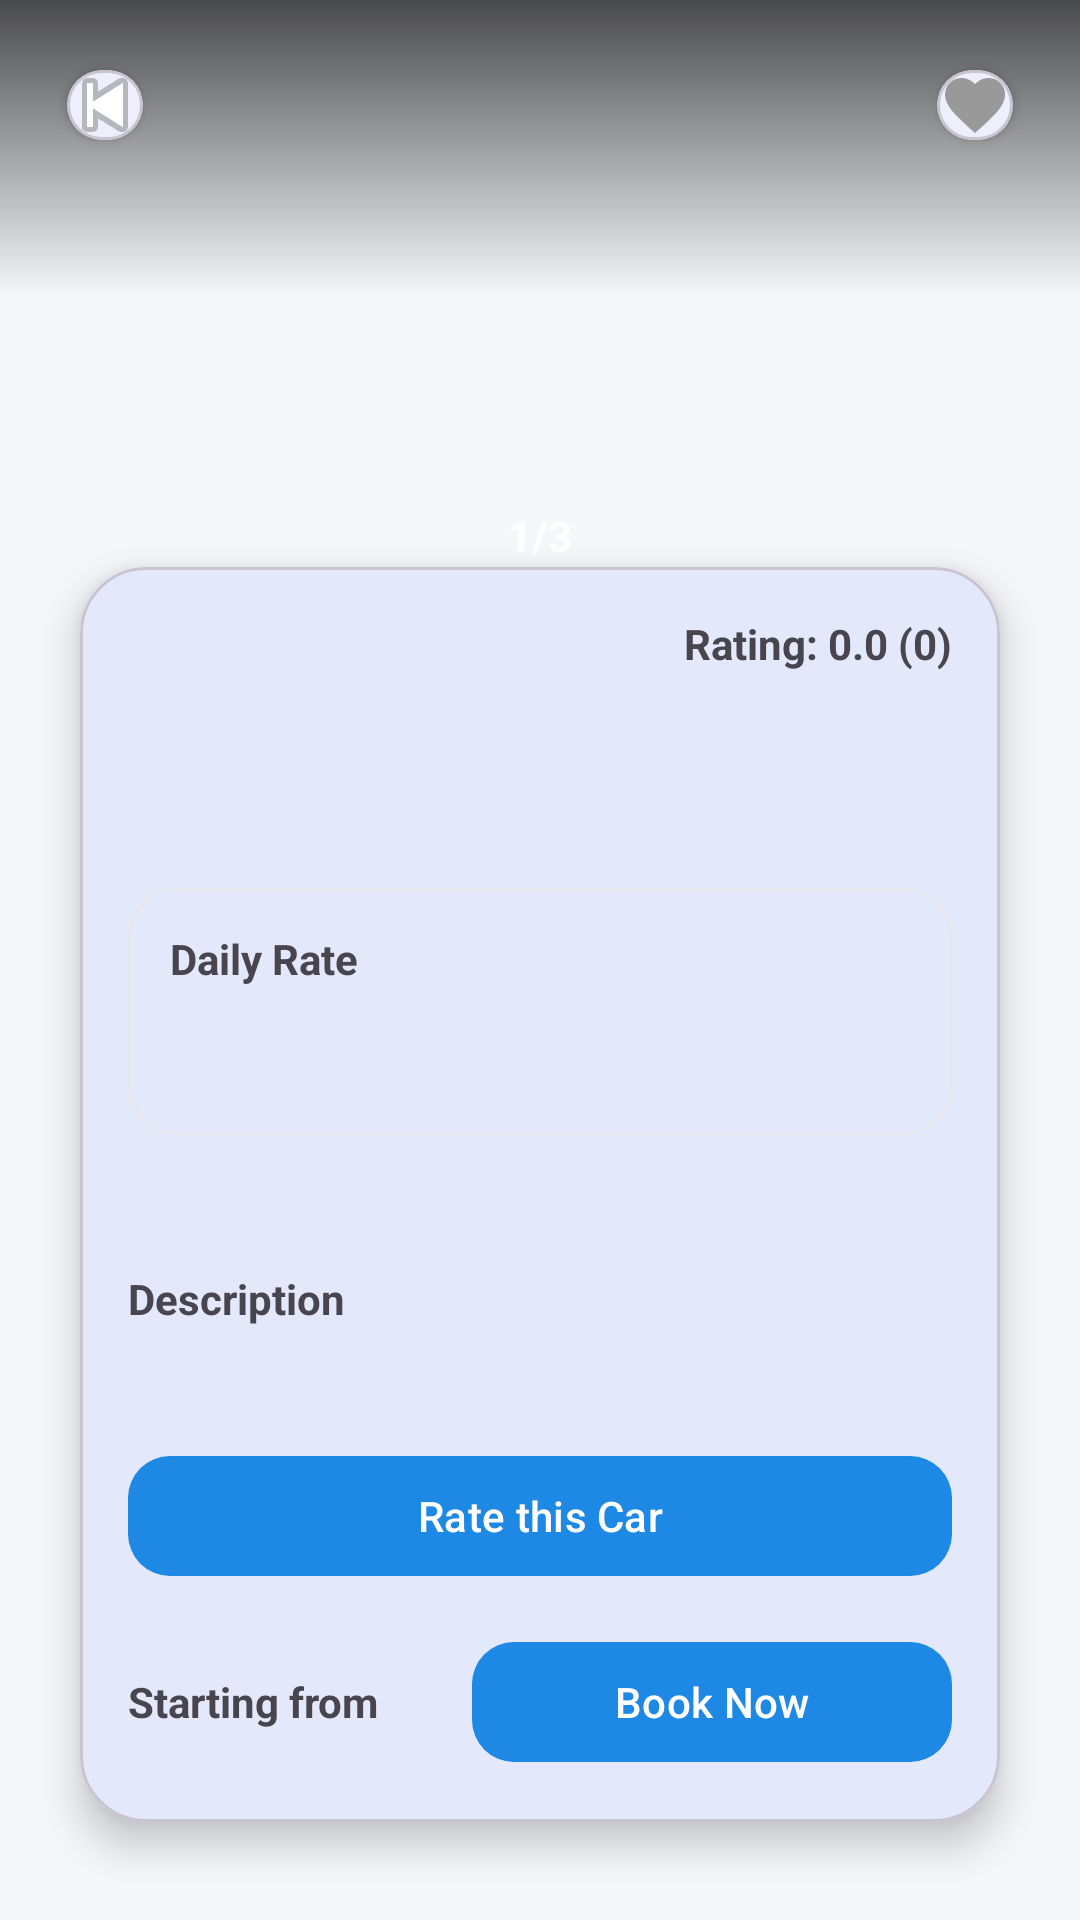

Where to tap for icons on this 1080 × 1920 app screen, as (x=x, y=y):
Back: (x=105, y=105)
Favorite: (x=975, y=105)
